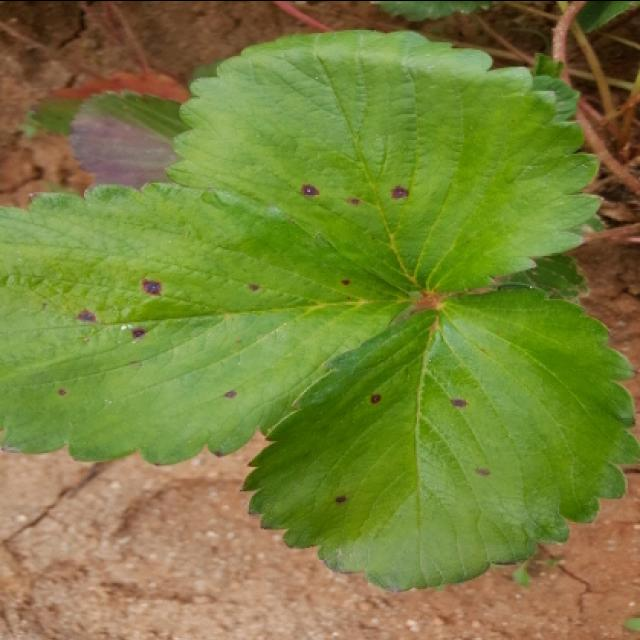Leaf Spot: (239, 281, 638, 592), (162, 26, 604, 301), (0, 179, 420, 465)
